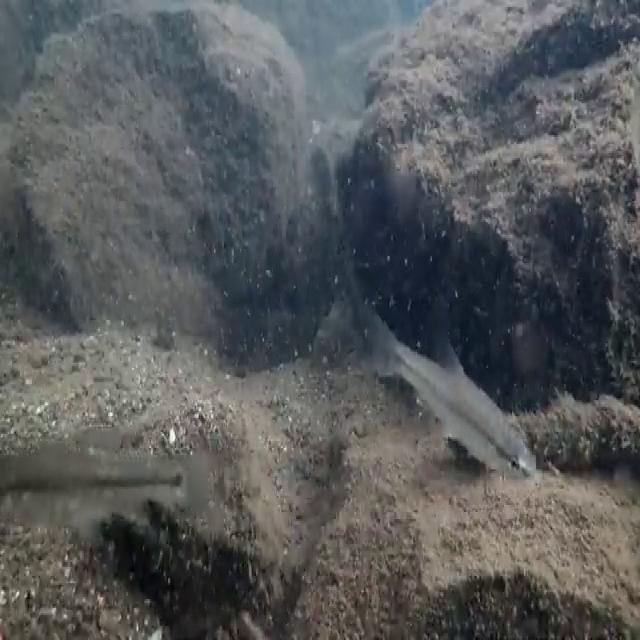Cakil Baligi: (356, 289, 542, 495), (0, 416, 213, 553)
